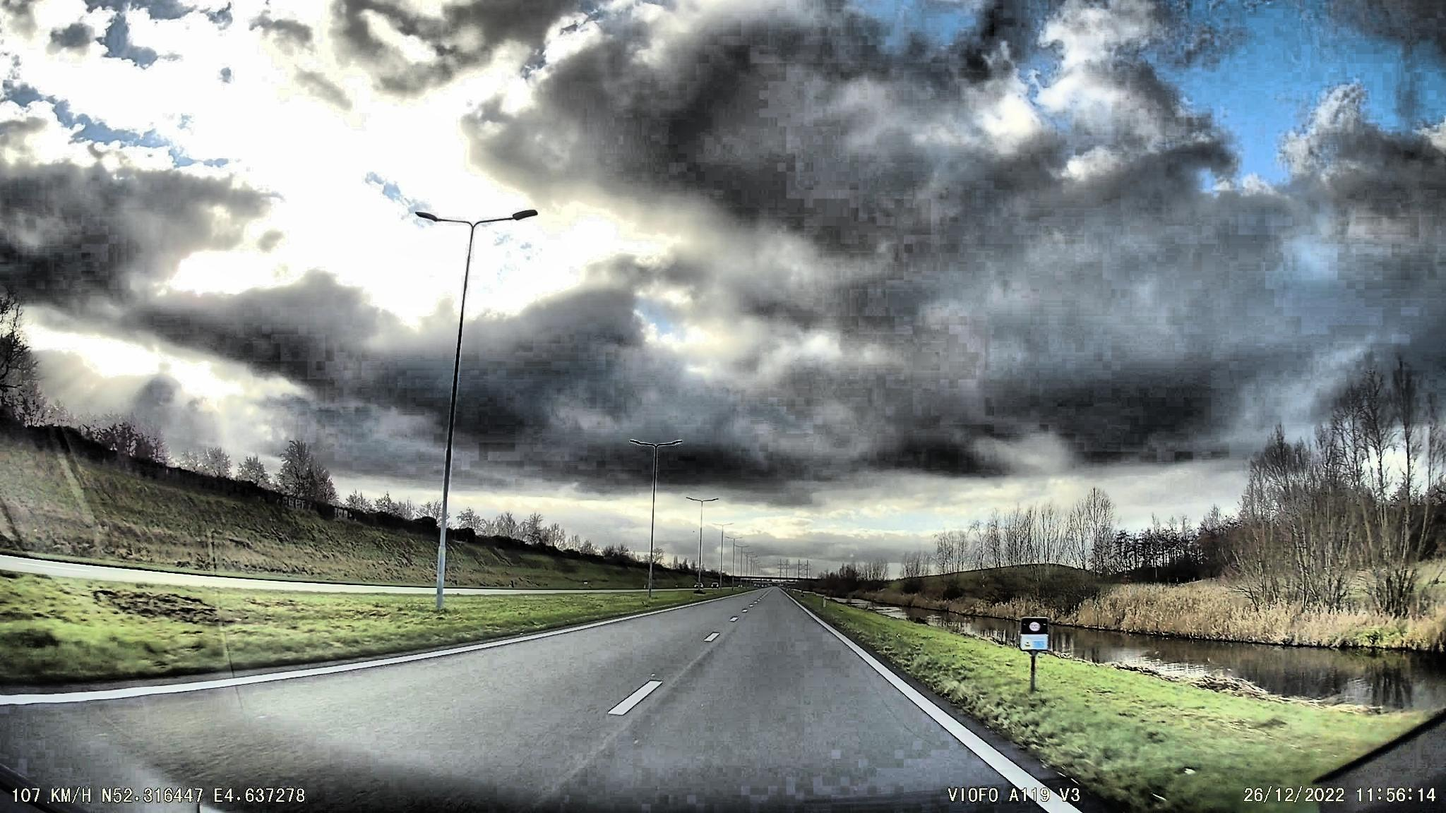Roads: (0, 589, 1091, 813)
